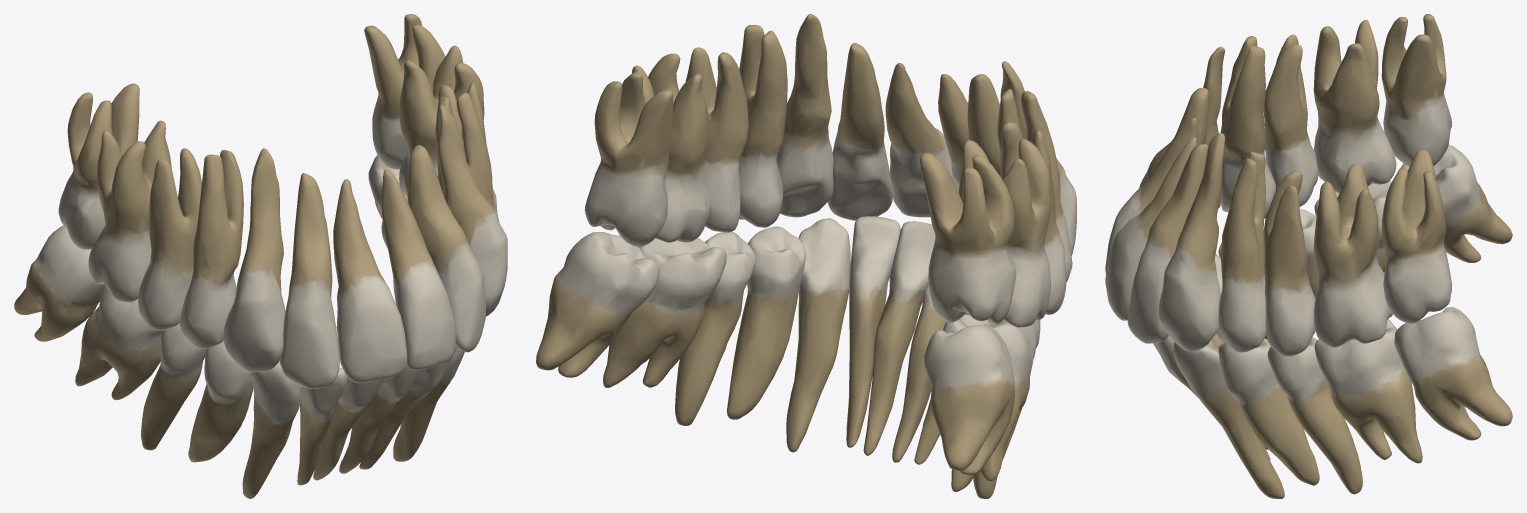
Rendered from dente.glb.
3 renders of one model, left to right at view 1: azimuth 30°, elevation 25°; view 2: azimuth 150°, elevation 25°; view 3: azimuth 270°, elevation 25°, orthographic. The views are drawn at different scales.
Visible parts, largest first — view 1: Upper medial incisor.r, Upper first molar tooth.r, Upper lateral incisor.r, Upper canine.r, Upper first premolar.r, Upper medial incisor.l, Upper second premolar.r, Upper lateral incisor.l, Upper second molar tooth.r, Lower second molar tooth.r, Lower first molar tooth.r, Upper canine.l (+13 smaller); view 2: Upper second molar tooth.r, Upper second molar tooth.l, Lower second molar tooth.l, Lower second molar tooth.r, Lower first molar tooth.l, Lower first premolar.l, Lower canine.l, Upper canine.l, Upper first premolar.l, Upper lateral incisor.l, Upper first molar tooth.l, Upper first molar tooth.r (+14 smaller); view 3: Upper first molar tooth.l, Upper first molar tooth.r, Upper second molar tooth.l, Lower second molar tooth.l, Lower first molar tooth.l, Upper canine.l, Upper second molar tooth.r, Upper first premolar.l, Upper second premolar.l, Lower first premolar.l, Lower second premolar.l, Upper second premolar.r (+11 smaller).
Boxes of the visible parts, x1=… form: Upper medial incisor.r: x1=333, y1=179, x2=407, y2=383; Upper first molar tooth.r: x1=88, y1=120, x2=171, y2=302; Upper lateral incisor.r: x1=279, y1=173, x2=340, y2=388; Upper canine.r: x1=223, y1=148, x2=285, y2=372; Upper first premolar.r: x1=179, y1=150, x2=243, y2=348; Upper medial incisor.l: x1=381, y1=169, x2=455, y2=369; Upper second premolar.r: x1=138, y1=148, x2=201, y2=330; Upper lateral incisor.l: x1=408, y1=145, x2=485, y2=352; Upper second molar tooth.r: x1=58, y1=83, x2=139, y2=249; Lower second molar tooth.r: x1=14, y1=225, x2=103, y2=341; Lower first molar tooth.r: x1=75, y1=284, x2=162, y2=400; Upper canine.l: x1=438, y1=105, x2=507, y2=316; Upper second molar tooth.r: x1=919, y1=152, x2=1016, y2=324; Upper second molar tooth.l: x1=584, y1=72, x2=673, y2=246; Lower second molar tooth.l: x1=536, y1=232, x2=659, y2=377; Lower second molar tooth.r: x1=924, y1=324, x2=1014, y2=475; Lower first molar tooth.l: x1=603, y1=238, x2=726, y2=387; Lower first premolar.l: x1=726, y1=226, x2=805, y2=419; Lower canine.l: x1=786, y1=218, x2=850, y2=452; Upper canine.l: x1=776, y1=14, x2=833, y2=217; Upper first premolar.l: x1=739, y1=25, x2=787, y2=227; Upper lateral incisor.l: x1=827, y1=43, x2=892, y2=220; Upper first molar tooth.l: x1=632, y1=53, x2=710, y2=242; Upper first molar tooth.r: x1=958, y1=139, x2=1051, y2=327; Upper first molar tooth.l: x1=1313, y1=164, x2=1392, y2=347; Upper first molar tooth.r: x1=1313, y1=20, x2=1396, y2=193; Upper second molar tooth.l: x1=1381, y1=149, x2=1451, y2=323; Lower second molar tooth.l: x1=1394, y1=307, x2=1512, y2=440; Lower first molar tooth.l: x1=1314, y1=319, x2=1422, y2=463; Upper canine.l: x1=1158, y1=133, x2=1224, y2=351; Upper second molar tooth.r: x1=1381, y1=14, x2=1451, y2=166; Upper first premolar.l: x1=1218, y1=151, x2=1266, y2=352; Upper second premolar.l: x1=1264, y1=171, x2=1315, y2=356; Lower first premolar.l: x1=1218, y1=338, x2=1319, y2=485; Lower second premolar.l: x1=1267, y1=337, x2=1362, y2=494; Upper second premolar.r: x1=1264, y1=34, x2=1318, y2=206.
Bounding box in the file's own units: 0.0643 × 0.0561 × 0.0556.
